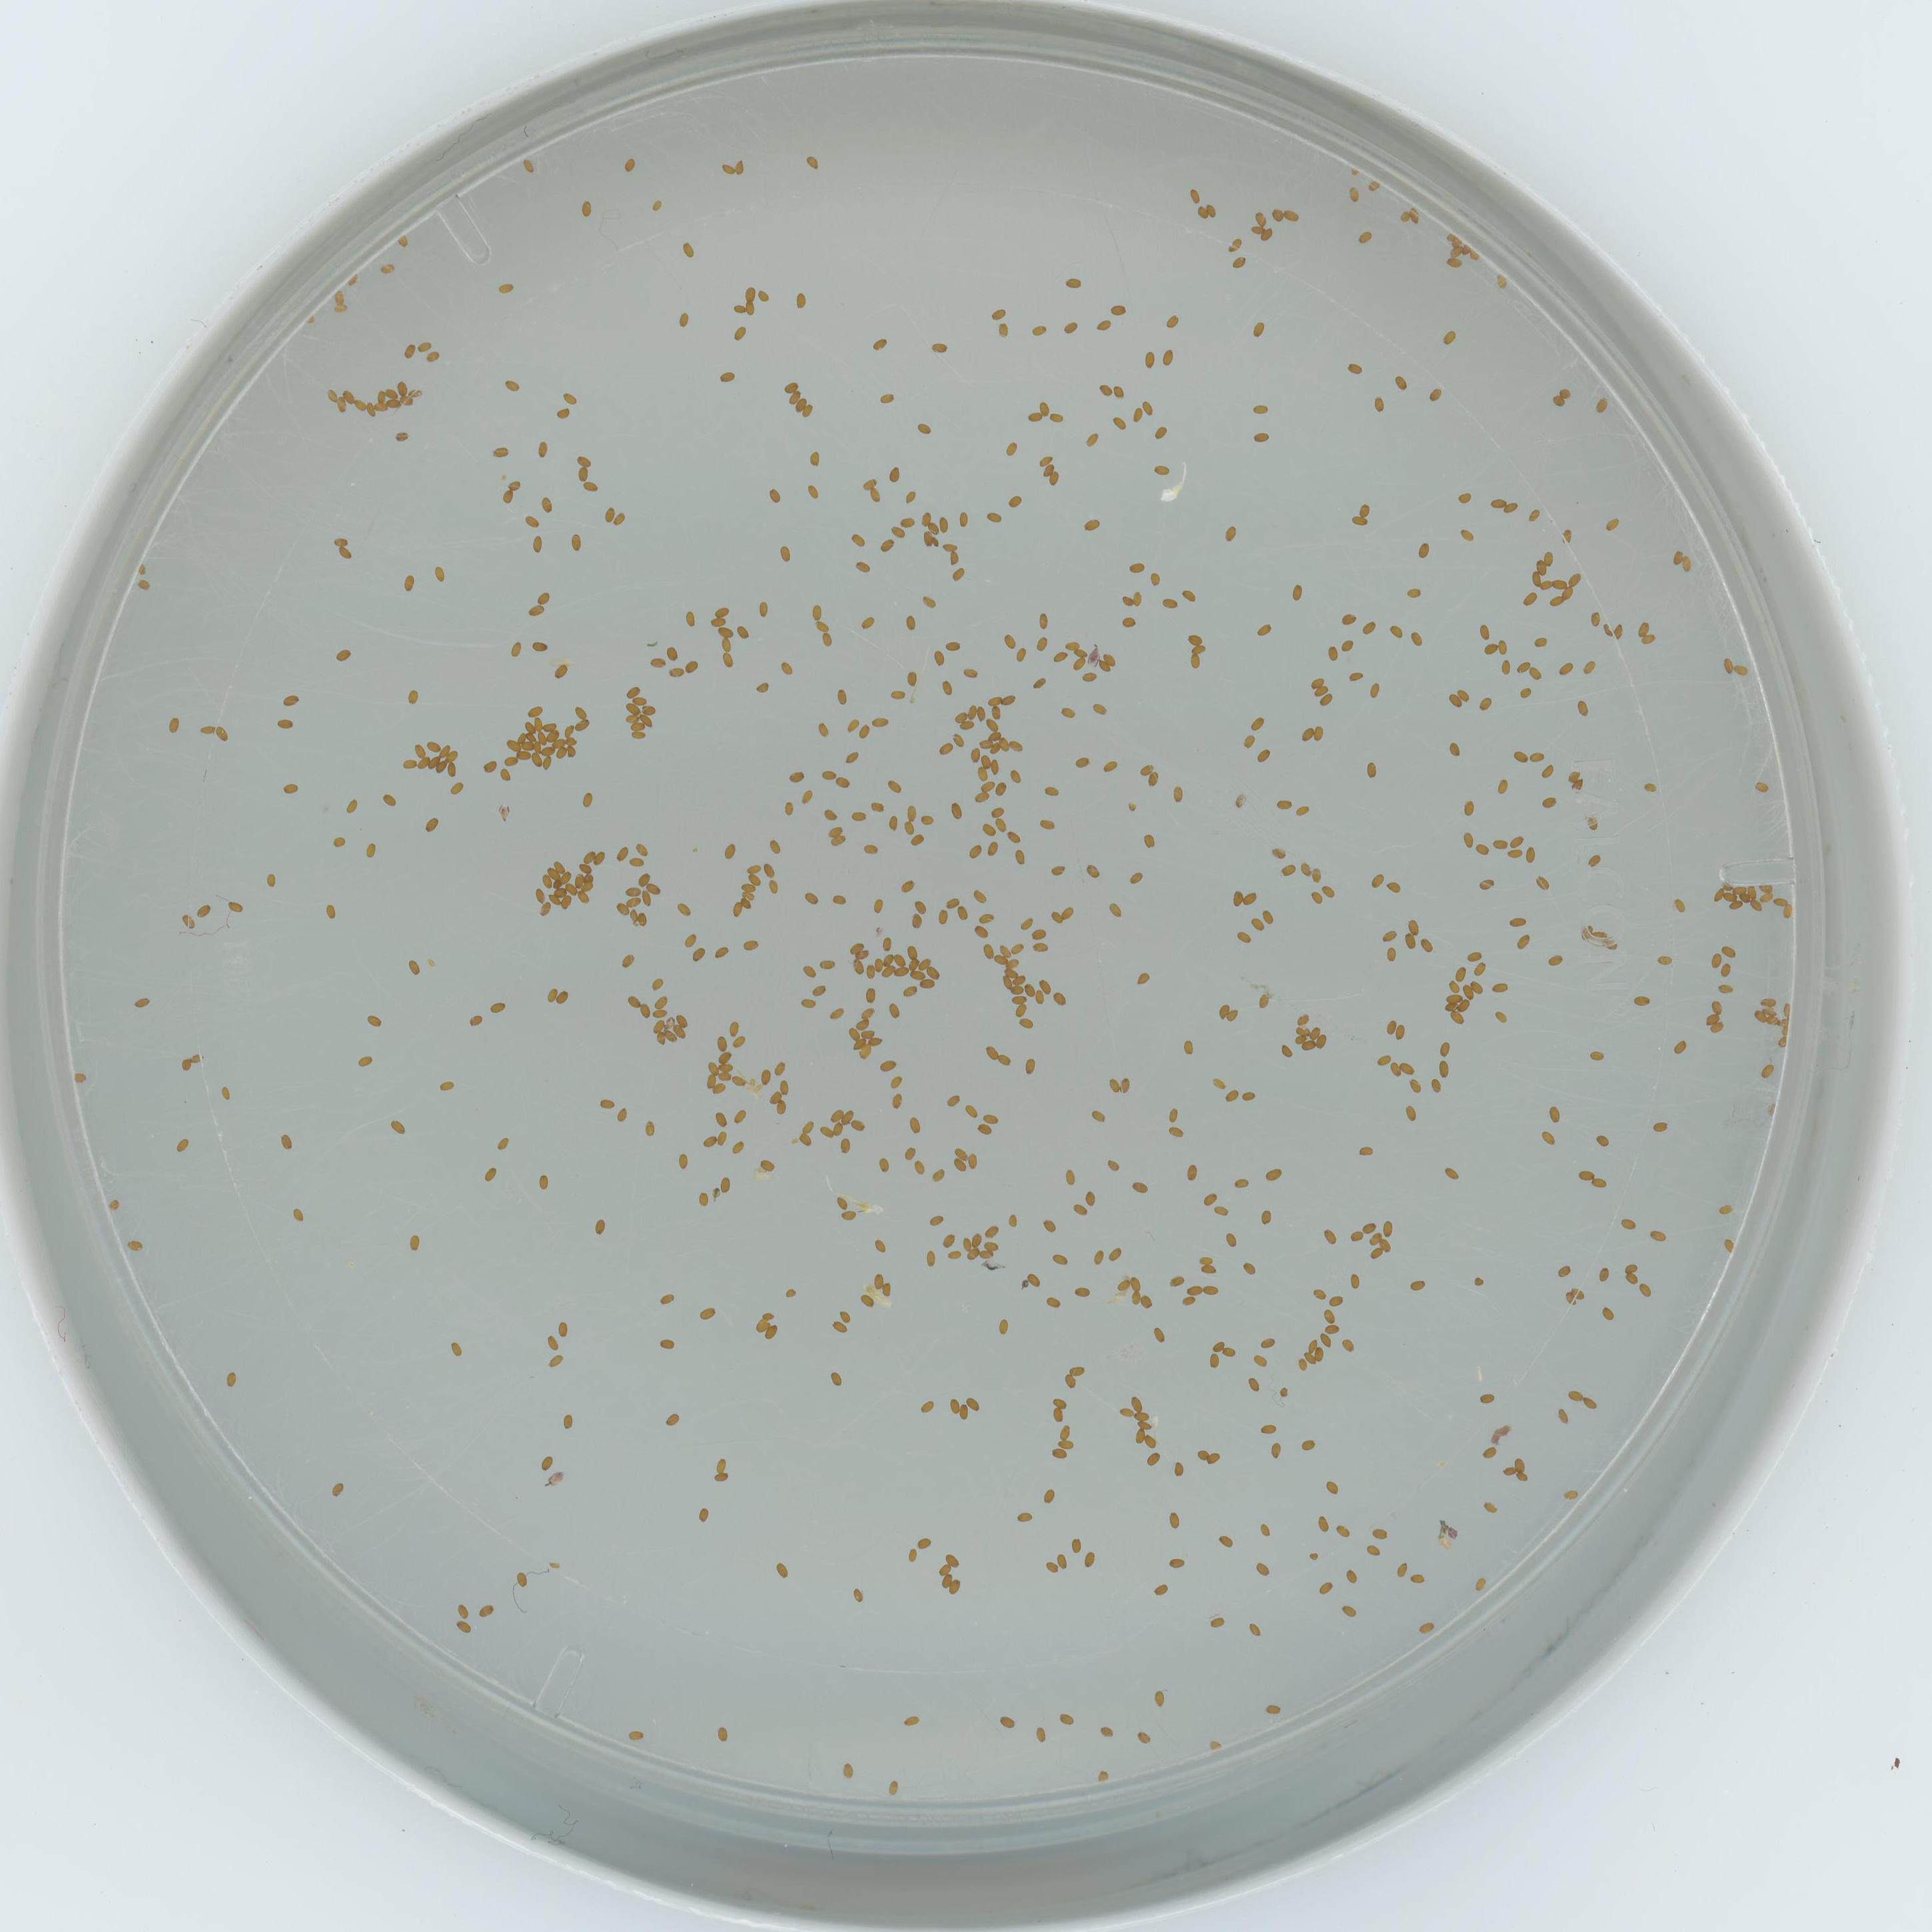seed: (566, 533, 586, 552), (1263, 1162, 1283, 1182), (421, 816, 441, 833), (904, 1115, 924, 1132), (718, 1173, 736, 1192), (387, 1116, 407, 1134), (1522, 589, 1541, 607), (1573, 699, 1592, 717), (1435, 1060, 1454, 1077), (1649, 1224, 1668, 1242), (924, 1247, 939, 1269), (676, 901, 694, 918), (886, 465, 904, 483), (531, 637, 548, 655), (902, 614, 920, 632), (793, 292, 810, 310), (743, 934, 761, 952), (904, 669, 922, 686), (425, 736, 442, 754), (663, 644, 681, 662), (690, 945, 708, 962), (718, 635, 736, 653), (862, 985, 879, 1003), (699, 1302, 717, 1320), (879, 1054, 897, 1072), (653, 991, 671, 1008), (713, 1111, 731, 1129), (1030, 320, 1047, 338), (1405, 918, 1422, 936), (984, 508, 1001, 525), (1514, 931, 1532, 948), (987, 803, 1005, 821), (1031, 635, 1049, 653), (1458, 525, 1476, 543), (1086, 863, 1104, 881), (1012, 646, 1030, 663), (1284, 207, 1302, 225), (1150, 423, 1168, 441), (1230, 253, 1247, 271), (1040, 782, 1058, 800), (1221, 524, 1238, 541), (1288, 584, 1306, 602), (1403, 1104, 1421, 1122), (1054, 1422, 1072, 1440), (1164, 1511, 1182, 1529), (1221, 1230, 1238, 1247), (1267, 1442, 1284, 1460), (1201, 1189, 1219, 1207), (1106, 1244, 1123, 1261), (1150, 1580, 1168, 1598), (1060, 1168, 1077, 1185), (1182, 1164, 1200, 1182), (1417, 1617, 1435, 1635), (856, 1044, 874, 1062), (1470, 1576, 1488, 1594), (1759, 1062, 1776, 1079), (400, 573, 416, 593), (899, 513, 918, 529), (407, 957, 423, 977), (816, 1122, 835, 1138), (796, 1131, 816, 1146), (1378, 927, 1398, 943), (1322, 1228, 1338, 1247), (1716, 1201, 1736, 1217), (1721, 1238, 1741, 1254), (911, 899, 929, 915), (538, 497, 556, 513), (481, 759, 499, 775), (870, 899, 888, 915), (789, 770, 807, 786), (281, 692, 299, 708), (683, 931, 701, 947), (872, 713, 890, 729), (625, 683, 642, 699), (855, 559, 872, 575), (755, 600, 771, 617), (713, 941, 731, 957), (552, 663, 570, 679), (947, 803, 964, 819), (628, 855, 646, 870), (361, 842, 379, 858), (851, 809, 869, 824), (322, 904, 340, 920), (508, 640, 525, 656), (885, 816, 902, 832), (534, 589, 552, 605), (281, 780, 299, 796), (870, 798, 886, 816), (492, 442, 510, 458), (778, 543, 794, 561), (446, 763, 464, 778), (805, 150, 821, 168), (936, 741, 954, 757), (807, 449, 824, 465), (345, 798, 361, 816), (432, 564, 448, 582), (720, 366, 736, 384), (448, 780, 465, 796), (524, 511, 540, 529), (334, 646, 352, 662), (849, 939, 867, 955), (379, 258, 395, 276), (916, 1534, 934, 1550), (545, 1334, 563, 1350), (559, 1414, 577, 1430), (538, 1454, 556, 1470), (488, 998, 506, 1014), (888, 1072, 906, 1088), (405, 1233, 423, 1249), (939, 1231, 957, 1247), (851, 1116, 869, 1132), (759, 1155, 777, 1171), (455, 1619, 472, 1635), (837, 1138, 855, 1154), (876, 1155, 893, 1171), (849, 1587, 867, 1603), (278, 1131, 294, 1148), (554, 1320, 571, 1336), (911, 1157, 929, 1173), (481, 1164, 499, 1180), (536, 1173, 552, 1191), (918, 1398, 936, 1414), (695, 1506, 713, 1522), (828, 1371, 846, 1387), (172, 1136, 189, 1152), (591, 1217, 609, 1233), (437, 1074, 455, 1090), (832, 1120, 847, 1138), (715, 1725, 732, 1741), (902, 1713, 920, 1729), (1532, 633, 1548, 651), (1546, 950, 1564, 966), (1414, 543, 1431, 559), (1127, 559, 1145, 575), (1235, 929, 1253, 945), (1279, 862, 1297, 878), (1339, 610, 1357, 626), (1440, 329, 1458, 345), (1516, 686, 1534, 702), (1017, 915, 1035, 931), (1385, 879, 1403, 895), (1338, 637, 1355, 653), (1010, 849, 1028, 865), (1251, 400, 1269, 416), (1392, 375, 1410, 391), (1460, 801, 1477, 817), (1168, 786, 1185, 801), (1401, 932, 1419, 948), (1497, 660, 1514, 676), (1368, 874, 1385, 890), (1178, 587, 1196, 603), (1106, 901, 1122, 918), (1405, 584, 1422, 600), (1465, 947, 1483, 962), (1030, 925, 1047, 941), (1185, 630, 1203, 646), (1065, 272, 1083, 288), (989, 304, 1007, 320), (1557, 660, 1575, 676), (1010, 939, 1028, 955), (1253, 428, 1269, 446), (1529, 750, 1546, 766), (1539, 764, 1557, 780), (1477, 695, 1493, 713), (1346, 359, 1362, 377), (1247, 715, 1265, 731), (1534, 876, 1552, 892), (1031, 939, 1049, 955), (1656, 950, 1674, 966), (1159, 349, 1177, 364), (1249, 320, 1265, 338), (1230, 794, 1247, 810), (1269, 846, 1286, 862), (1062, 318, 1079, 334), (1047, 863, 1065, 879), (1251, 209, 1269, 225), (1460, 833, 1477, 849), (1072, 754, 1090, 770), (993, 782, 1010, 798), (1357, 228, 1375, 244), (1258, 1334, 1276, 1350), (984, 1042, 1000, 1060), (1637, 1281, 1654, 1297), (1231, 1173, 1249, 1189), (1566, 1385, 1583, 1401), (1143, 1451, 1161, 1467), (998, 1713, 1014, 1730), (1327, 1292, 1345, 1307), (1168, 1270, 1185, 1286), (1408, 1276, 1426, 1292), (1309, 1284, 1327, 1300), (1299, 1435, 1316, 1451), (1192, 1445, 1208, 1463), (1021, 1058, 1039, 1074), (1392, 1562, 1410, 1578), (1652, 1116, 1670, 1132), (1313, 1516, 1330, 1532), (1131, 1177, 1148, 1192), (1444, 977, 1461, 993), (1672, 1039, 1690, 1054), (996, 1316, 1012, 1334), (1203, 1352, 1221, 1368), (1253, 1560, 1270, 1576), (1539, 1129, 1557, 1145), (1256, 1522, 1274, 1537), (1323, 1479, 1341, 1495), (1364, 1543, 1382, 1559), (1375, 1051, 1392, 1067), (1546, 1104, 1562, 1122), (1016, 1507, 1031, 1525), (1178, 1037, 1196, 1053), (1435, 1040, 1453, 1056), (1081, 1189, 1099, 1205), (1070, 1201, 1088, 1217), (1072, 1283, 1090, 1299), (1168, 1553, 1184, 1571), (1553, 1408, 1571, 1424), (1339, 1336, 1357, 1352), (1049, 1392, 1067, 1408), (1150, 1691, 1168, 1707), (1621, 1214, 1638, 1230), (1097, 1723, 1115, 1739), (1596, 1265, 1614, 1281), (1426, 1076, 1444, 1092), (1104, 1076, 1120, 1093), (1254, 993, 1272, 1008), (1316, 1332, 1332, 1350), (1560, 1486, 1578, 1502), (1759, 993, 1776, 1008), (1764, 1100, 1782, 1116), (1493, 272, 1511, 288), (885, 1778, 901, 1796), (106, 1196, 124, 1212), (127, 1237, 145, 1253), (71, 1070, 88, 1086), (1408, 205, 1422, 225), (524, 156, 538, 175), (945, 893, 961, 909), (915, 421, 931, 437), (763, 863, 778, 879), (899, 878, 915, 893), (902, 488, 918, 504), (892, 686, 908, 702), (890, 524, 906, 540), (932, 340, 948, 356), (945, 637, 961, 653), (683, 610, 699, 626), (757, 287, 773, 303), (881, 389, 897, 405), (195, 902, 211, 918), (888, 778, 904, 794), (823, 807, 839, 823), (934, 908, 950, 924), (922, 593, 938, 609), (918, 812, 934, 828), (400, 755, 416, 771), (832, 893, 847, 909), (837, 775, 853, 791), (939, 679, 955, 695), (856, 725, 872, 741), (331, 835, 347, 851), (529, 534, 545, 550), (563, 389, 579, 405), (768, 839, 784, 855), (529, 603, 545, 619), (504, 375, 520, 391), (741, 285, 757, 301), (851, 531, 867, 547), (336, 545, 352, 561), (681, 241, 697, 257), (879, 934, 895, 950), (621, 156, 637, 172), (720, 653, 736, 669), (931, 651, 947, 667), (685, 658, 701, 674), (499, 488, 515, 504), (768, 488, 784, 504), (214, 727, 230, 743), (720, 159, 736, 175), (902, 807, 918, 823), (863, 474, 879, 490), (846, 717, 862, 732), (724, 844, 740, 860), (784, 379, 800, 395), (534, 442, 550, 458), (807, 483, 823, 499), (504, 738, 520, 754), (612, 511, 628, 527), (755, 679, 771, 695), (410, 743, 426, 759), (676, 311, 692, 327), (395, 380, 410, 396), (497, 768, 513, 784), (499, 278, 515, 294), (879, 538, 895, 554), (393, 428, 409, 444), (179, 913, 195, 929), (495, 803, 511, 819), (812, 982, 828, 998), (651, 975, 667, 991), (929, 1210, 945, 1226), (364, 1012, 380, 1028), (600, 1093, 616, 1109), (879, 1281, 895, 1297), (727, 1019, 743, 1035), (478, 1601, 494, 1617), (890, 1093, 906, 1109), (888, 1001, 904, 1017), (718, 1047, 734, 1063), (660, 1290, 676, 1306), (515, 1571, 531, 1587), (757, 1069, 773, 1085), (775, 1562, 791, 1578), (223, 1371, 239, 1387), (860, 1293, 876, 1309), (872, 1237, 888, 1253), (637, 1001, 653, 1017), (660, 1336, 676, 1352), (732, 1109, 748, 1125), (556, 989, 571, 1005), (455, 1603, 471, 1619), (628, 1727, 644, 1743), (642, 1120, 658, 1136), (773, 1060, 789, 1076), (494, 1134, 510, 1150), (828, 1106, 844, 1122), (676, 1154, 692, 1169), (801, 1116, 817, 1132), (448, 1339, 464, 1355), (548, 1352, 564, 1368), (731, 1139, 747, 1155), (616, 1106, 632, 1122), (715, 1458, 731, 1474), (329, 1481, 345, 1497), (950, 1155, 966, 1171), (177, 1054, 193, 1070), (695, 1191, 711, 1207), (862, 1005, 878, 1021), (1297, 725, 1313, 741), (1476, 623, 1491, 639), (1345, 186, 1361, 202), (1481, 640, 1497, 656), (1322, 646, 1338, 662), (1479, 876, 1495, 892), (1058, 904, 1074, 920), (1058, 704, 1074, 720), (1063, 637, 1079, 653), (978, 943, 994, 959), (1037, 816, 1053, 832), (1254, 621, 1270, 637), (1361, 619, 1376, 635), (1033, 612, 1049, 628), (973, 924, 989, 939), (1001, 633, 1017, 649), (1008, 738, 1024, 754), (1311, 725, 1327, 741), (1100, 759, 1116, 775), (1007, 492, 1023, 508), (1254, 748, 1270, 764), (1447, 741, 1463, 757), (1162, 313, 1178, 329), (1456, 686, 1472, 702), (1127, 872, 1143, 888), (1244, 890, 1260, 906), (1095, 317, 1111, 333), (1587, 853, 1603, 869), (1109, 301, 1125, 317), (1145, 571, 1161, 587), (1387, 623, 1403, 639), (1419, 936, 1435, 952), (1136, 761, 1152, 777), (1161, 594, 1177, 610), (1003, 441, 1019, 456), (1541, 794, 1557, 810), (1523, 847, 1539, 863), (1362, 761, 1378, 777), (1346, 669, 1362, 685), (1035, 400, 1051, 416), (1139, 833, 1155, 849), (1582, 660, 1598, 676), (1109, 414, 1125, 430), (1249, 915, 1265, 931), (1605, 515, 1621, 531), (1587, 610, 1603, 626), (1445, 694, 1461, 709), (1504, 499, 1520, 515), (1428, 386, 1444, 402), (1083, 432, 1099, 448), (1120, 614, 1136, 630), (1001, 692, 1017, 708), (1408, 630, 1424, 646), (1384, 947, 1399, 962), (1509, 832, 1525, 847), (1497, 639, 1513, 655), (1109, 384, 1125, 400), (1037, 451, 1053, 467), (1674, 897, 1690, 913), (1131, 591, 1146, 607), (1046, 471, 1062, 487), (1566, 766, 1582, 782), (1102, 651, 1118, 667), (1720, 656, 1736, 672), (1346, 1272, 1362, 1288), (1246, 1376, 1261, 1392), (1062, 1373, 1077, 1389), (1056, 1711, 1072, 1727), (1047, 1407, 1063, 1422), (984, 1221, 1000, 1237), (1371, 1523, 1387, 1539), (1051, 991, 1067, 1007), (1582, 1394, 1598, 1410), (1208, 1614, 1224, 1629), (1470, 1274, 1486, 1290), (1039, 1488, 1054, 1504), (1044, 1293, 1060, 1309), (1240, 1260, 1256, 1276), (1203, 1281, 1219, 1297), (1276, 1384, 1292, 1399), (1150, 1325, 1166, 1341), (1067, 1536, 1083, 1552), (1081, 1552, 1097, 1568), (966, 1396, 982, 1412), (1039, 1215, 1054, 1231), (1007, 1212, 1023, 1228), (1408, 1077, 1424, 1093), (1104, 1155, 1120, 1171), (1129, 1392, 1145, 1408), (1240, 1086, 1256, 1102), (1380, 1221, 1396, 1237), (1343, 1568, 1359, 1583), (1217, 1532, 1233, 1548), (1449, 1010, 1465, 1026), (1138, 1293, 1154, 1309), (1258, 1208, 1274, 1224), (1481, 1444, 1497, 1460), (1088, 1106, 1104, 1122), (1483, 1499, 1499, 1514), (1253, 1352, 1269, 1368), (1260, 1421, 1276, 1437), (1221, 1345, 1237, 1361), (982, 1108, 998, 1123), (1341, 1603, 1357, 1619), (1164, 1106, 1180, 1122), (1479, 1391, 1495, 1407), (1633, 993, 1649, 1008), (1408, 1571, 1424, 1587), (1134, 1729, 1150, 1744), (1116, 1076, 1132, 1092), (1166, 1122, 1182, 1138), (1026, 1272, 1042, 1288), (1624, 1258, 1640, 1274), (1361, 1217, 1376, 1233), (1378, 1238, 1394, 1254), (1214, 1003, 1230, 1019), (1583, 814, 1599, 830), (1753, 778, 1769, 794), (1736, 662, 1752, 678), (1596, 396, 1612, 412), (1207, 1737, 1223, 1753), (1364, 175, 1380, 191), (331, 288, 347, 304), (395, 232, 410, 248), (908, 915, 925, 929), (821, 768, 839, 782), (331, 533, 349, 547), (803, 892, 821, 906), (525, 702, 543, 717), (580, 200, 594, 218), (621, 955, 639, 970), (872, 336, 890, 350), (901, 821, 918, 835), (582, 479, 600, 494), (810, 603, 824, 621), (844, 750, 862, 764), (536, 902, 554, 916), (320, 387, 338, 402), (612, 847, 630, 862), (575, 453, 593, 467), (637, 911, 651, 929), (800, 789, 817, 803), (734, 159, 748, 177), (939, 517, 954, 534), (833, 1194, 851, 1208), (837, 1307, 855, 1322), (801, 966, 819, 980), (356, 1051, 373, 1065), (663, 1412, 681, 1426), (1051, 651, 1069, 665), (1083, 517, 1100, 531), (1509, 915, 1527, 929), (1185, 655, 1203, 669), (1548, 594, 1566, 609), (1491, 837, 1509, 851), (1511, 750, 1529, 764), (978, 823, 996, 837), (1355, 501, 1373, 515), (1369, 396, 1387, 410), (1316, 694, 1334, 708), (1270, 205, 1284, 223), (994, 324, 1012, 338), (1490, 495, 1507, 510), (1247, 221, 1265, 235), (1445, 255, 1463, 269), (1642, 780, 1660, 794), (1228, 239, 1246, 253), (1599, 1306, 1617, 1320), (1031, 1727, 1049, 1741), (1047, 1445, 1065, 1460), (1594, 1132, 1612, 1146), (1387, 1060, 1401, 1077), (1263, 1702, 1281, 1716), (1320, 1309, 1338, 1323), (975, 1122, 993, 1136), (1490, 980, 1507, 994), (1054, 1552, 1069, 1569), (1555, 1261, 1573, 1276), (1392, 1023, 1407, 1040), (1453, 968, 1470, 982), (1010, 993, 1028, 1007), (1599, 938, 1617, 952), (998, 734, 1012, 752), (345, 271, 359, 288), (189, 1049, 207, 1063), (380, 793, 396, 807), (531, 888, 547, 902), (651, 656, 667, 671), (732, 326, 748, 340), (863, 840, 879, 855), (405, 690, 421, 704), (633, 842, 649, 856), (196, 722, 212, 736), (782, 801, 798, 816), (556, 405, 571, 419), (612, 902, 628, 916), (276, 717, 292, 731), (669, 665, 685, 679), (163, 718, 179, 732), (418, 338, 433, 352), (715, 603, 731, 617), (226, 899, 242, 913), (778, 662, 794, 676), (559, 895, 575, 909), (736, 625, 752, 639), (594, 849, 609, 865), (602, 506, 616, 522), (575, 718, 591, 732), (425, 349, 441, 363), (909, 835, 925, 849), (400, 343, 416, 357), (950, 566, 964, 582), (862, 616, 876, 632), (920, 531, 934, 547), (571, 704, 587, 718), (262, 874, 278, 888), (941, 540, 957, 554), (819, 632, 835, 646), (520, 718, 536, 732), (816, 722, 832, 736), (136, 577, 150, 593), (867, 488, 883, 502), (579, 793, 594, 807), (764, 881, 780, 895), (649, 196, 663, 212), (918, 511, 932, 527), (828, 824, 844, 839), (893, 950, 908, 966), (731, 301, 747, 315), (575, 467, 589, 483), (745, 299, 759, 315), (835, 688, 849, 704), (906, 945, 920, 961), (446, 748, 460, 764), (506, 478, 522, 492), (955, 511, 970, 527), (945, 550, 961, 564), (540, 745, 556, 759), (918, 955, 934, 970), (902, 984, 918, 998), (469, 1010, 483, 1026), (702, 1132, 718, 1146), (133, 994, 149, 1008), (945, 1093, 961, 1108), (902, 1145, 918, 1159), (676, 1012, 692, 1026), (801, 994, 817, 1008), (732, 1033, 748, 1047), (778, 1077, 793, 1093), (918, 977, 934, 991), (830, 1005, 846, 1019), (947, 1398, 961, 1414), (625, 993, 639, 1008), (947, 1247, 962, 1261), (931, 1166, 947, 1180), (832, 1320, 847, 1334), (717, 1129, 731, 1145), (290, 1207, 304, 1223), (945, 1552, 959, 1568), (731, 1072, 747, 1086), (948, 1578, 962, 1594), (775, 1099, 791, 1113), (755, 1316, 770, 1332), (851, 959, 865, 975), (842, 1762, 856, 1778), (1228, 890, 1242, 906), (971, 890, 987, 904), (1187, 188, 1203, 202), (1026, 410, 1042, 425), (989, 761, 1003, 777), (1309, 674, 1325, 688), (977, 909, 993, 924), (1030, 676, 1046, 690), (1320, 885, 1336, 899), (1154, 462, 1168, 478), (1097, 382, 1113, 396), (1072, 656, 1086, 672), (1495, 780, 1511, 794), (1295, 803, 1311, 817), (1276, 798, 1292, 812), (1514, 658, 1530, 672), (1090, 702, 1106, 717), (1614, 623, 1628, 639), (985, 842, 1001, 856), (1366, 683, 1382, 697), (1007, 770, 1023, 784), (973, 791, 989, 805), (1240, 734, 1256, 748), (1007, 832, 1023, 846), (1141, 400, 1155, 416), (1474, 844, 1490, 858), (1527, 508, 1543, 522), (1456, 490, 1472, 504), (1642, 633, 1658, 648), (1307, 892, 1323, 906), (1260, 226, 1276, 241), (1529, 667, 1545, 681), (1309, 869, 1325, 883), (1145, 773, 1161, 787), (1568, 571, 1583, 586), (1637, 621, 1651, 637), (1129, 407, 1143, 423), (1721, 943, 1737, 957), (962, 663, 977, 679), (978, 778, 994, 793), (1550, 395, 1566, 409), (1668, 550, 1683, 566), (1543, 550, 1557, 566), (1552, 577, 1568, 591), (1571, 777, 1585, 793), (1046, 909, 1062, 924), (1560, 527, 1575, 543), (1017, 1017, 1033, 1031), (1316, 1580, 1332, 1594), (1336, 1523, 1352, 1537), (1348, 1228, 1364, 1242), (1357, 1141, 1373, 1155), (1115, 1276, 1129, 1292), (1578, 1166, 1594, 1180), (1247, 1622, 1263, 1637), (1053, 1253, 1069, 1267), (1169, 1461, 1185, 1476), (1069, 1361, 1085, 1375), (1493, 1008, 1509, 1023), (998, 1051, 1014, 1065), (1470, 978, 1484, 994), (1709, 998, 1725, 1012), (1198, 1249, 1212, 1265), (1295, 1012, 1311, 1026), (1208, 1451, 1223, 1467), (1382, 1019, 1396, 1035), (1279, 1042, 1293, 1058), (1012, 1003, 1028, 1017), (1223, 1086, 1238, 1100), (1589, 1046, 1605, 1060), (1212, 1203, 1228, 1217), (1325, 1322, 1341, 1336), (1315, 1033, 1329, 1049), (1514, 1456, 1530, 1470), (1090, 1249, 1106, 1263), (1444, 1164, 1460, 1178), (1592, 1175, 1606, 1191), (966, 1152, 980, 1168), (966, 1247, 980, 1263), (1129, 1430, 1145, 1444), (1210, 1338, 1224, 1353), (1210, 1074, 1226, 1088), (966, 1102, 980, 1118), (1224, 1008, 1240, 1023), (1461, 984, 1476, 1000), (1058, 1435, 1074, 1449), (1782, 1001, 1796, 1017), (1578, 925, 1592, 941), (1592, 927, 1608, 941), (1759, 879, 1775, 893), (1468, 248, 1484, 262), (1095, 1769, 1111, 1783), (672, 1024, 688, 1039), (373, 400, 387, 416), (334, 303, 349, 318), (625, 885, 642, 897), (623, 701, 640, 713), (745, 862, 763, 874), (747, 874, 764, 886), (573, 872, 586, 890), (713, 1470, 731, 1483), (1143, 350, 1155, 368), (1046, 410, 1063, 423), (968, 747, 980, 764), (1115, 1407, 1132, 1419), (1200, 1263, 1217, 1276), (1683, 556, 1695, 573), (1070, 648, 1090, 658), (577, 892, 591, 906), (731, 902, 745, 916), (566, 745, 580, 759), (580, 849, 594, 863), (552, 747, 566, 761), (561, 722, 575, 736), (954, 709, 968, 724), (364, 403, 379, 418), (715, 1035, 729, 1049), (784, 1284, 798, 1299), (906, 1548, 920, 1562), (545, 987, 559, 1001), (869, 1033, 883, 1047), (219, 1085, 234, 1099), (840, 1111, 855, 1125), (954, 1146, 968, 1161), (856, 1017, 870, 1031), (1261, 909, 1276, 924), (1297, 862, 1311, 876), (993, 817, 1007, 832), (1539, 579, 1553, 593), (987, 692, 1001, 706), (968, 844, 982, 858), (1750, 899, 1764, 913), (1315, 685, 1329, 699), (1711, 890, 1725, 904), (1560, 586, 1575, 600), (989, 741, 1003, 755), (1368, 1247, 1382, 1261), (1368, 1233, 1382, 1247), (1039, 980, 1053, 994), (1143, 1435, 1157, 1449), (1129, 1276, 1143, 1290), (1401, 1060, 1415, 1074), (1136, 971, 1150, 985), (1042, 1559, 1056, 1573), (1023, 984, 1037, 998), (1295, 1357, 1309, 1371), (1472, 961, 1486, 975), (1414, 1007, 1428, 1021), (1711, 1019, 1725, 1033), (1306, 1548, 1320, 1562), (1304, 1352, 1318, 1366), (1753, 1008, 1767, 1023), (1773, 893, 1787, 908), (1782, 906, 1796, 920), (1759, 892, 1773, 906), (927, 522, 941, 536), (663, 1030, 678, 1044), (547, 867, 561, 881), (136, 563, 150, 577), (637, 872, 653, 885), (646, 883, 662, 895), (957, 904, 970, 920), (502, 755, 518, 768), (336, 396, 349, 412), (832, 835, 847, 847), (343, 387, 356, 403), (632, 694, 648, 706), (718, 626, 734, 639), (418, 757, 433, 770), (821, 957, 837, 970), (952, 732, 964, 748), (640, 717, 656, 729), (872, 1274, 885, 1290), (846, 1026, 862, 1039), (842, 1208, 858, 1221), (879, 966, 895, 978), (936, 1564, 952, 1576), (764, 1325, 780, 1338), (865, 964, 878, 980), (1116, 594, 1132, 607), (1352, 515, 1368, 527), (1529, 571, 1541, 587), (1081, 672, 1097, 685), (1506, 849, 1522, 862), (1191, 642, 1207, 655), (1557, 386, 1573, 398), (1205, 202, 1217, 218), (1185, 1283, 1201, 1295), (1295, 1026, 1311, 1039), (1624, 1272, 1640, 1284), (1180, 1295, 1196, 1307), (1514, 1472, 1530, 1484), (1562, 1290, 1575, 1306), (851, 1037, 867, 1049), (1776, 1035, 1789, 1051), (874, 957, 886, 973), (1003, 968, 1019, 980), (1099, 660, 1115, 672), (717, 1070, 732, 1083), (740, 890, 755, 902), (561, 869, 573, 885), (536, 731, 548, 747), (625, 713, 640, 725), (386, 398, 402, 410), (630, 731, 648, 741), (709, 617, 727, 628), (893, 966, 911, 977), (959, 1403, 970, 1421), (1707, 952, 1725, 962), (1196, 202, 1207, 219), (1702, 1014, 1720, 1024), (1445, 993, 1463, 1003), (1748, 883, 1759, 901), (993, 955, 1010, 966), (540, 874, 552, 888), (577, 863, 591, 876), (517, 750, 531, 763), (741, 897, 754, 911), (529, 754, 541, 768), (552, 858, 564, 872), (350, 398, 364, 410), (801, 405, 816, 418), (644, 702, 656, 717), (543, 718, 557, 731), (883, 952, 895, 966), (741, 881, 755, 893), (642, 890, 655, 904), (409, 386, 421, 400), (927, 966, 941, 978), (713, 1083, 727, 1095), (911, 970, 925, 982), (708, 1060, 720, 1074), (651, 1017, 663, 1031), (770, 1090, 782, 1104), (704, 1074, 717, 1088), (939, 1575, 954, 1587), (1601, 623, 1614, 637), (984, 718, 998, 731), (975, 766, 987, 780), (991, 706, 1005, 718), (1532, 559, 1546, 571), (1456, 1000, 1470, 1012), (1033, 991, 1046, 1005), (1127, 1292, 1139, 1306), (1720, 980, 1734, 993), (1001, 977, 1014, 991), (1502, 1465, 1516, 1477), (970, 1233, 982, 1247), (1315, 1346, 1327, 1361), (1573, 1286, 1585, 1300), (1302, 1039, 1316, 1051), (984, 1237, 998, 1249), (1764, 1007, 1778, 1019), (1778, 1016, 1792, 1028), (1444, 230, 1458, 242), (1449, 246, 1463, 258), (1398, 211, 1410, 225), (1010, 984, 1024, 996), (980, 738, 994, 750), (978, 736, 993, 748), (580, 881, 594, 893), (524, 731, 538, 743), (522, 740, 536, 752), (628, 724, 648, 732), (816, 621, 832, 632), (855, 950, 870, 961), (550, 738, 566, 748), (789, 389, 800, 405), (763, 1309, 778, 1320), (653, 1008, 669, 1019), (1000, 941, 1010, 957), (1007, 957, 1023, 968), (980, 754, 991, 770), (1039, 465, 1054, 476), (987, 731, 1003, 741), (1718, 966, 1734, 977), (1134, 1410, 1150, 1421), (978, 1249, 994, 1260), (1136, 1419, 1152, 1430), (1444, 1001, 1460, 1012), (961, 1235, 971, 1251), (1012, 975, 1028, 985), (959, 720, 975, 731), (966, 704, 977, 720), (718, 1062, 734, 1072), (441, 743, 451, 759), (541, 759, 554, 771), (548, 893, 561, 906), (566, 732, 579, 745), (1309, 1026, 1322, 1039), (1767, 1016, 1780, 1028), (1461, 242, 1474, 255), (554, 886, 566, 899), (548, 731, 561, 743), (428, 757, 441, 770), (387, 386, 398, 400), (628, 909, 639, 924), (437, 761, 448, 775), (655, 1030, 665, 1044), (1307, 1338, 1318, 1352), (1293, 1035, 1307, 1046), (1729, 899, 1743, 909), (1734, 885, 1748, 895), (1723, 892, 1737, 902), (534, 717, 545, 731), (977, 706, 985, 722), (796, 400, 807, 412), (564, 885, 577, 895), (402, 396, 414, 407), (375, 389, 386, 402), (862, 1028, 874, 1039), (1780, 1026, 1792, 1037), (1453, 237, 1465, 248), (909, 959, 920, 971), (517, 732, 527, 745), (534, 741, 545, 754), (626, 899, 640, 908), (1741, 893, 1752, 904), (584, 874, 594, 885), (1721, 881, 1734, 890), (552, 879, 563, 888)
